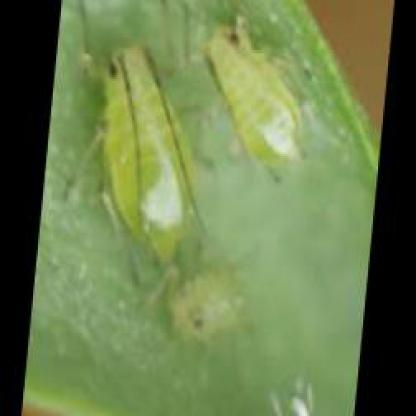schizaphis graminum: (102, 44, 201, 265), (202, 20, 308, 172)
